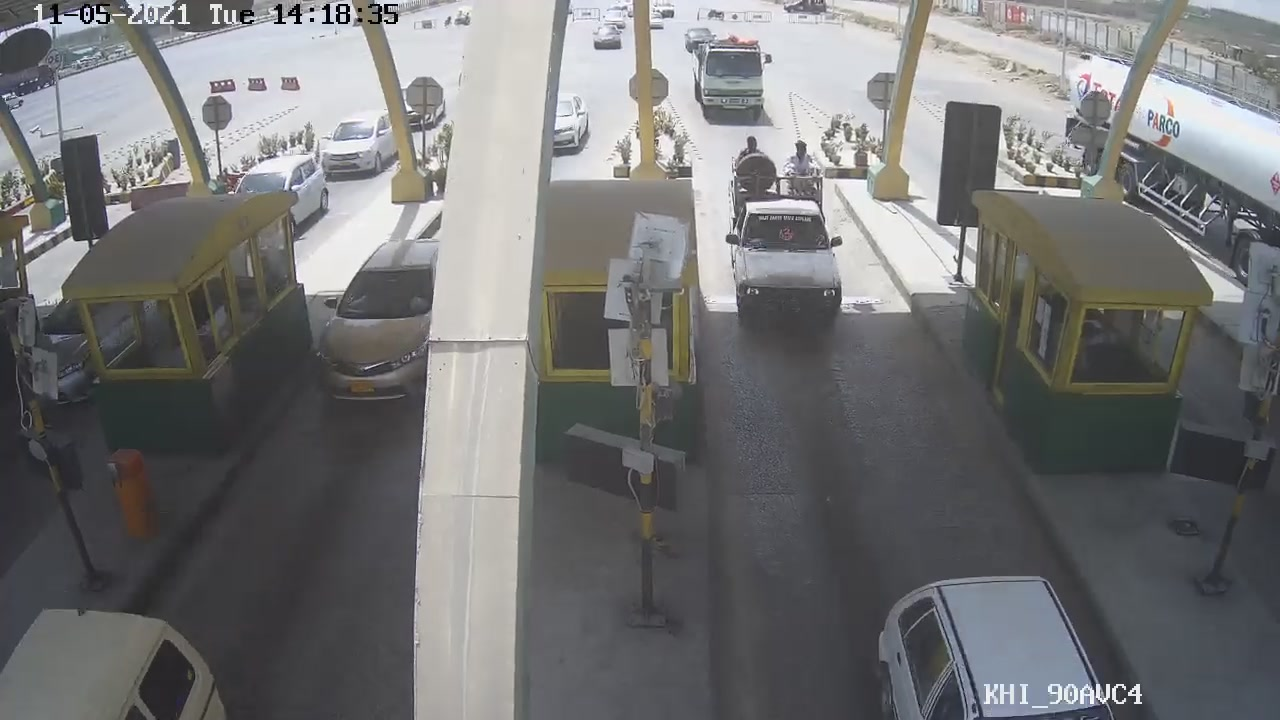F1: (723, 154, 855, 329)
